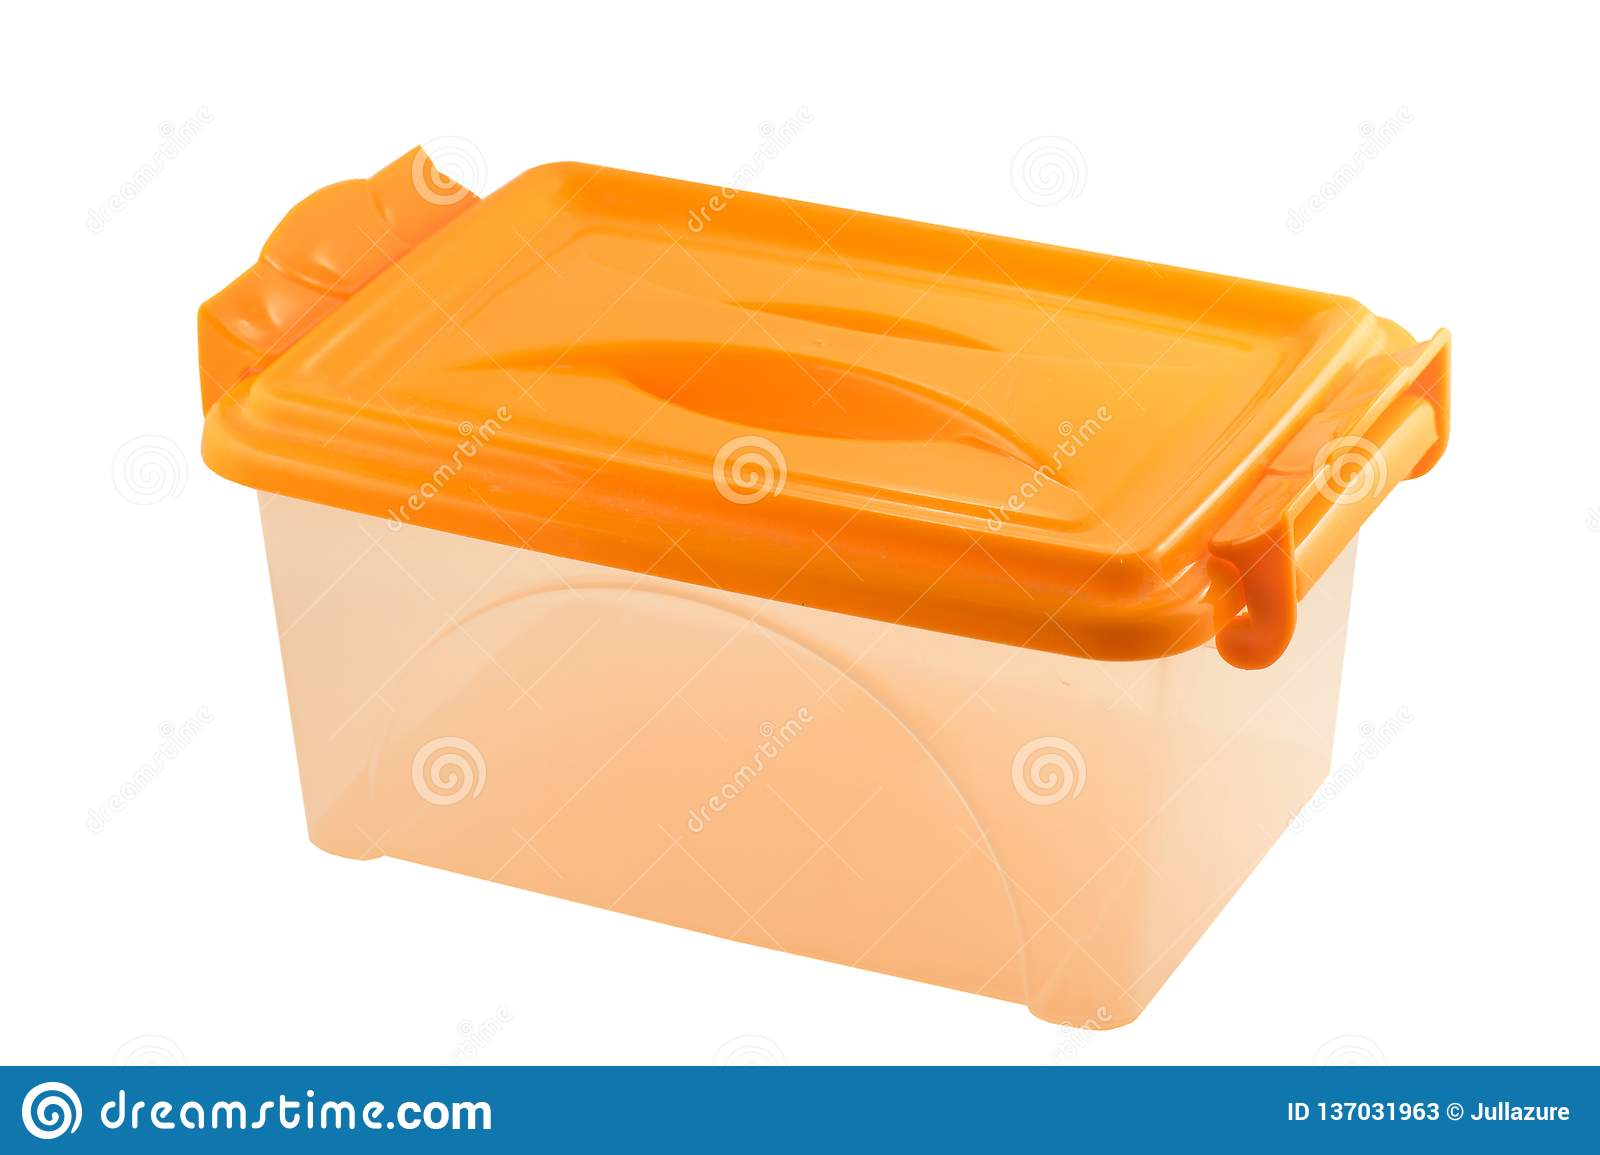PlasticBox: (178, 130, 1465, 1035)
